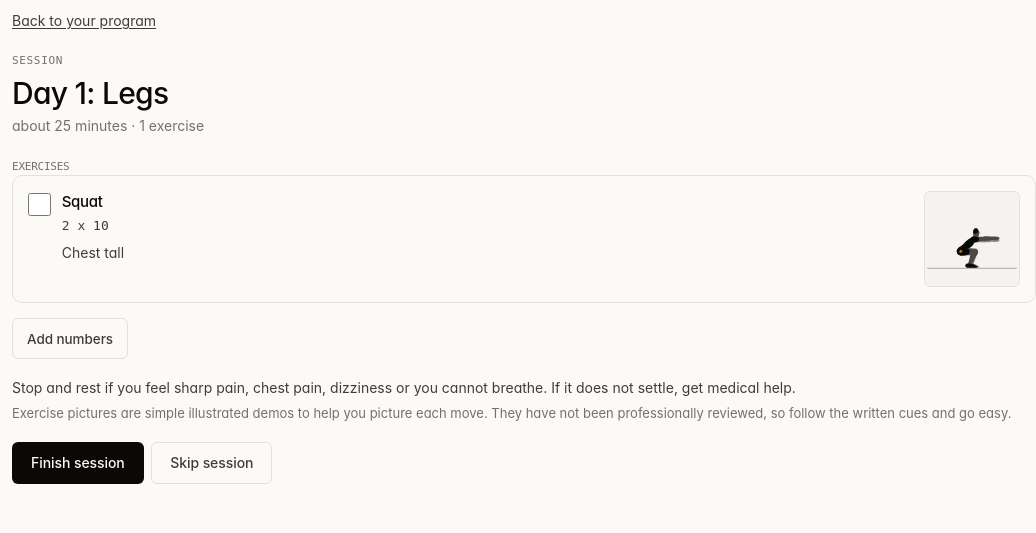
Scenario: StarterSession › shows an error and keeps the buttons when saving fails
Click the button "Finish session": click(78, 462) [12,442,144,484]
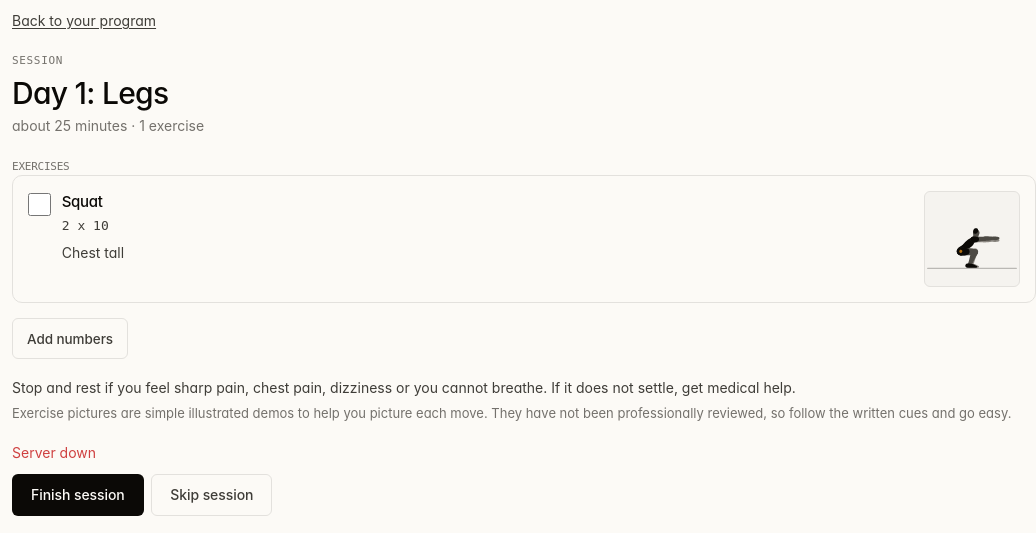
Expected: the button "Finish session" is enabled, [12,474,144,516]
Expected: the message reads "Server down", [12,444,96,460]
